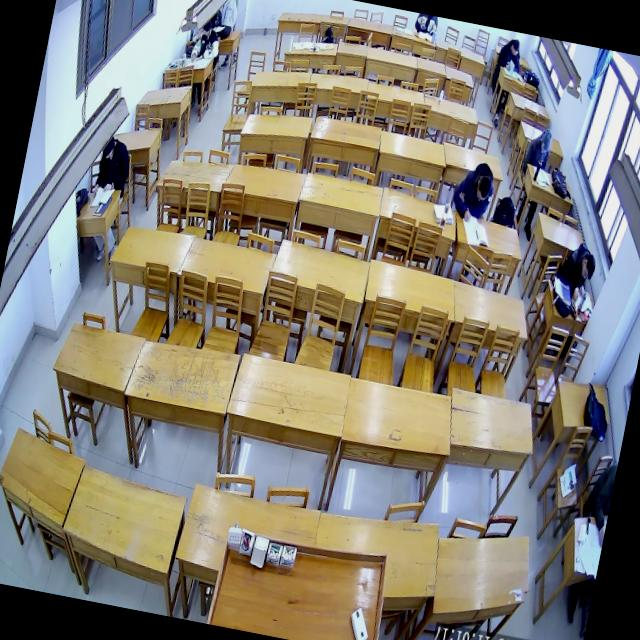down: (472, 173, 494, 206), (578, 252, 598, 284), (537, 126, 555, 157), (100, 133, 118, 162), (508, 38, 522, 58)
sit: (448, 154, 500, 228), (552, 236, 600, 304), (92, 131, 136, 203), (188, 15, 226, 68), (522, 121, 556, 170), (496, 35, 526, 74)
